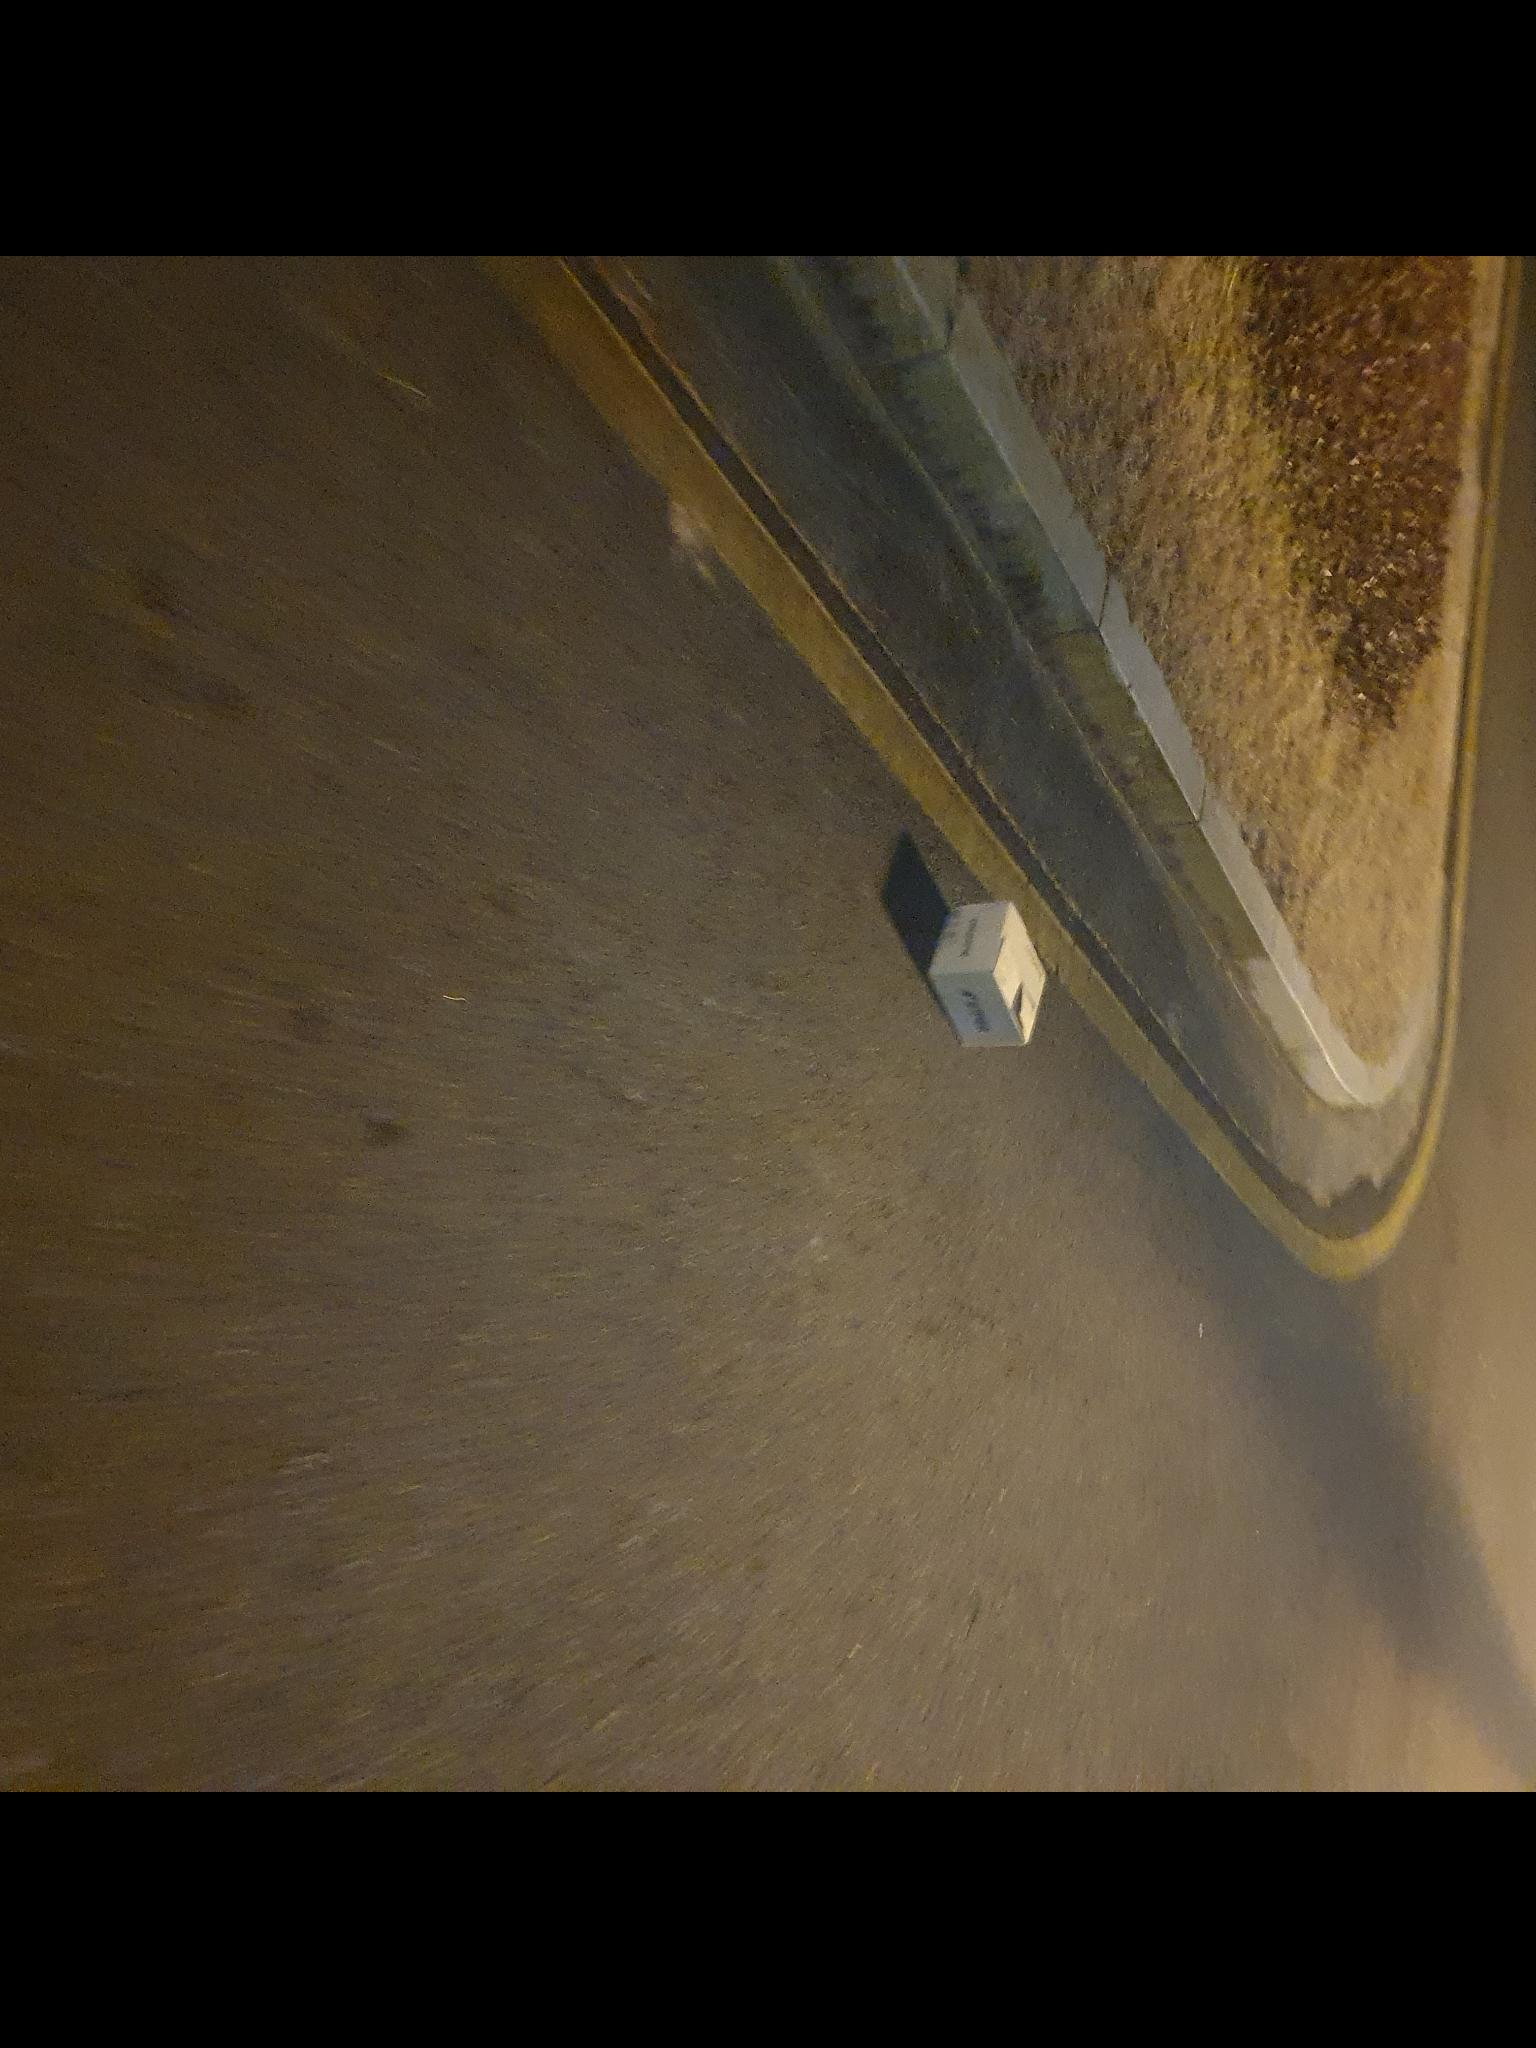Box: (913, 874, 1063, 1063)
